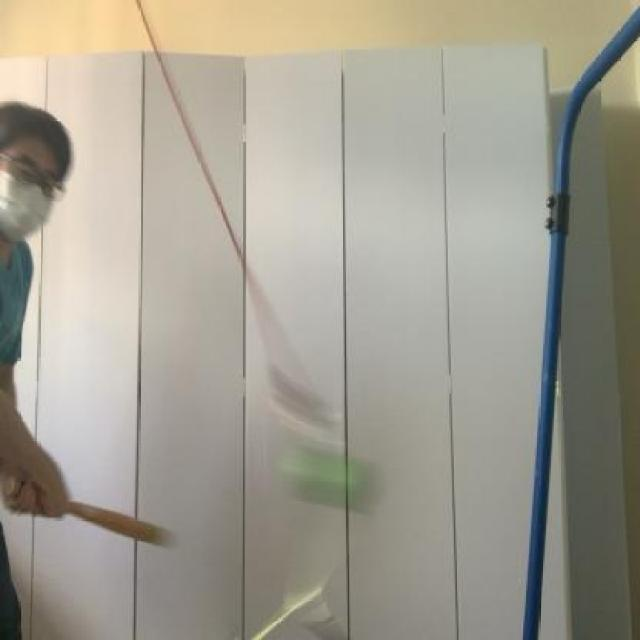baseball: (278, 435, 389, 519)
